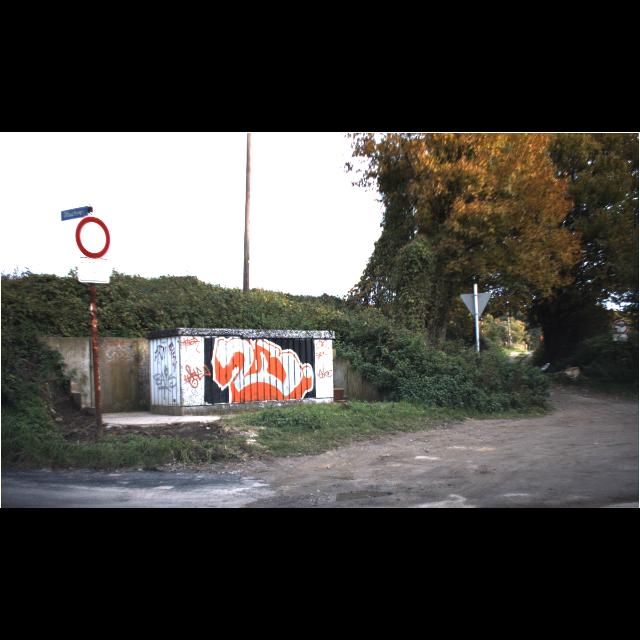prohibitory: (74, 216, 110, 258), (613, 320, 629, 336)
